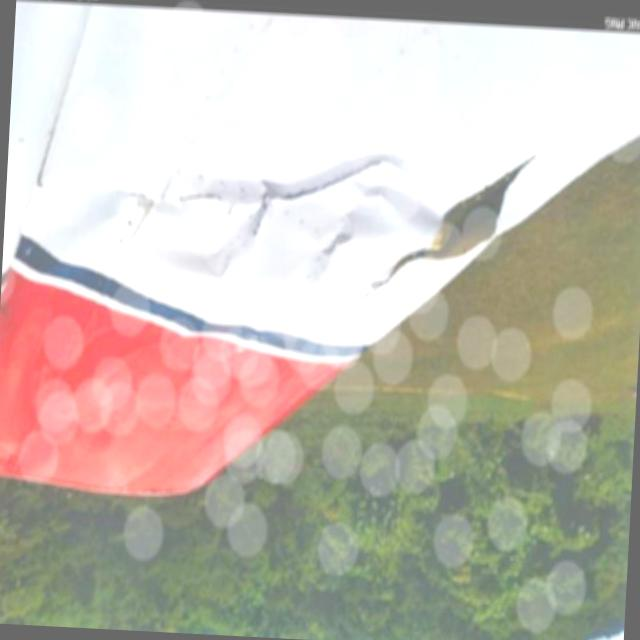crack: (272, 170, 369, 210)
